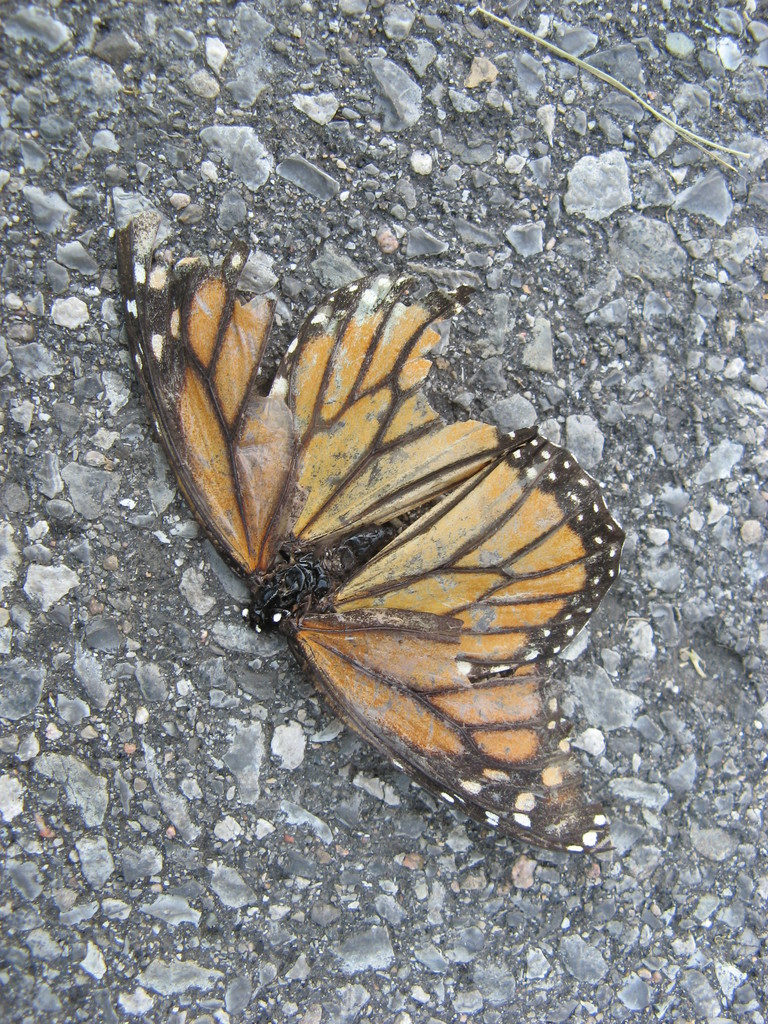Butterfly: (83, 205, 658, 858)
